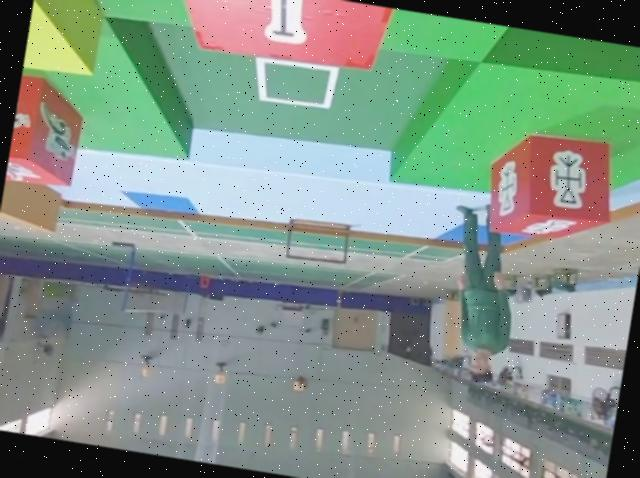R1: (4, 73, 94, 200)
R2 Real: (478, 120, 626, 257), (161, 0, 395, 81)
